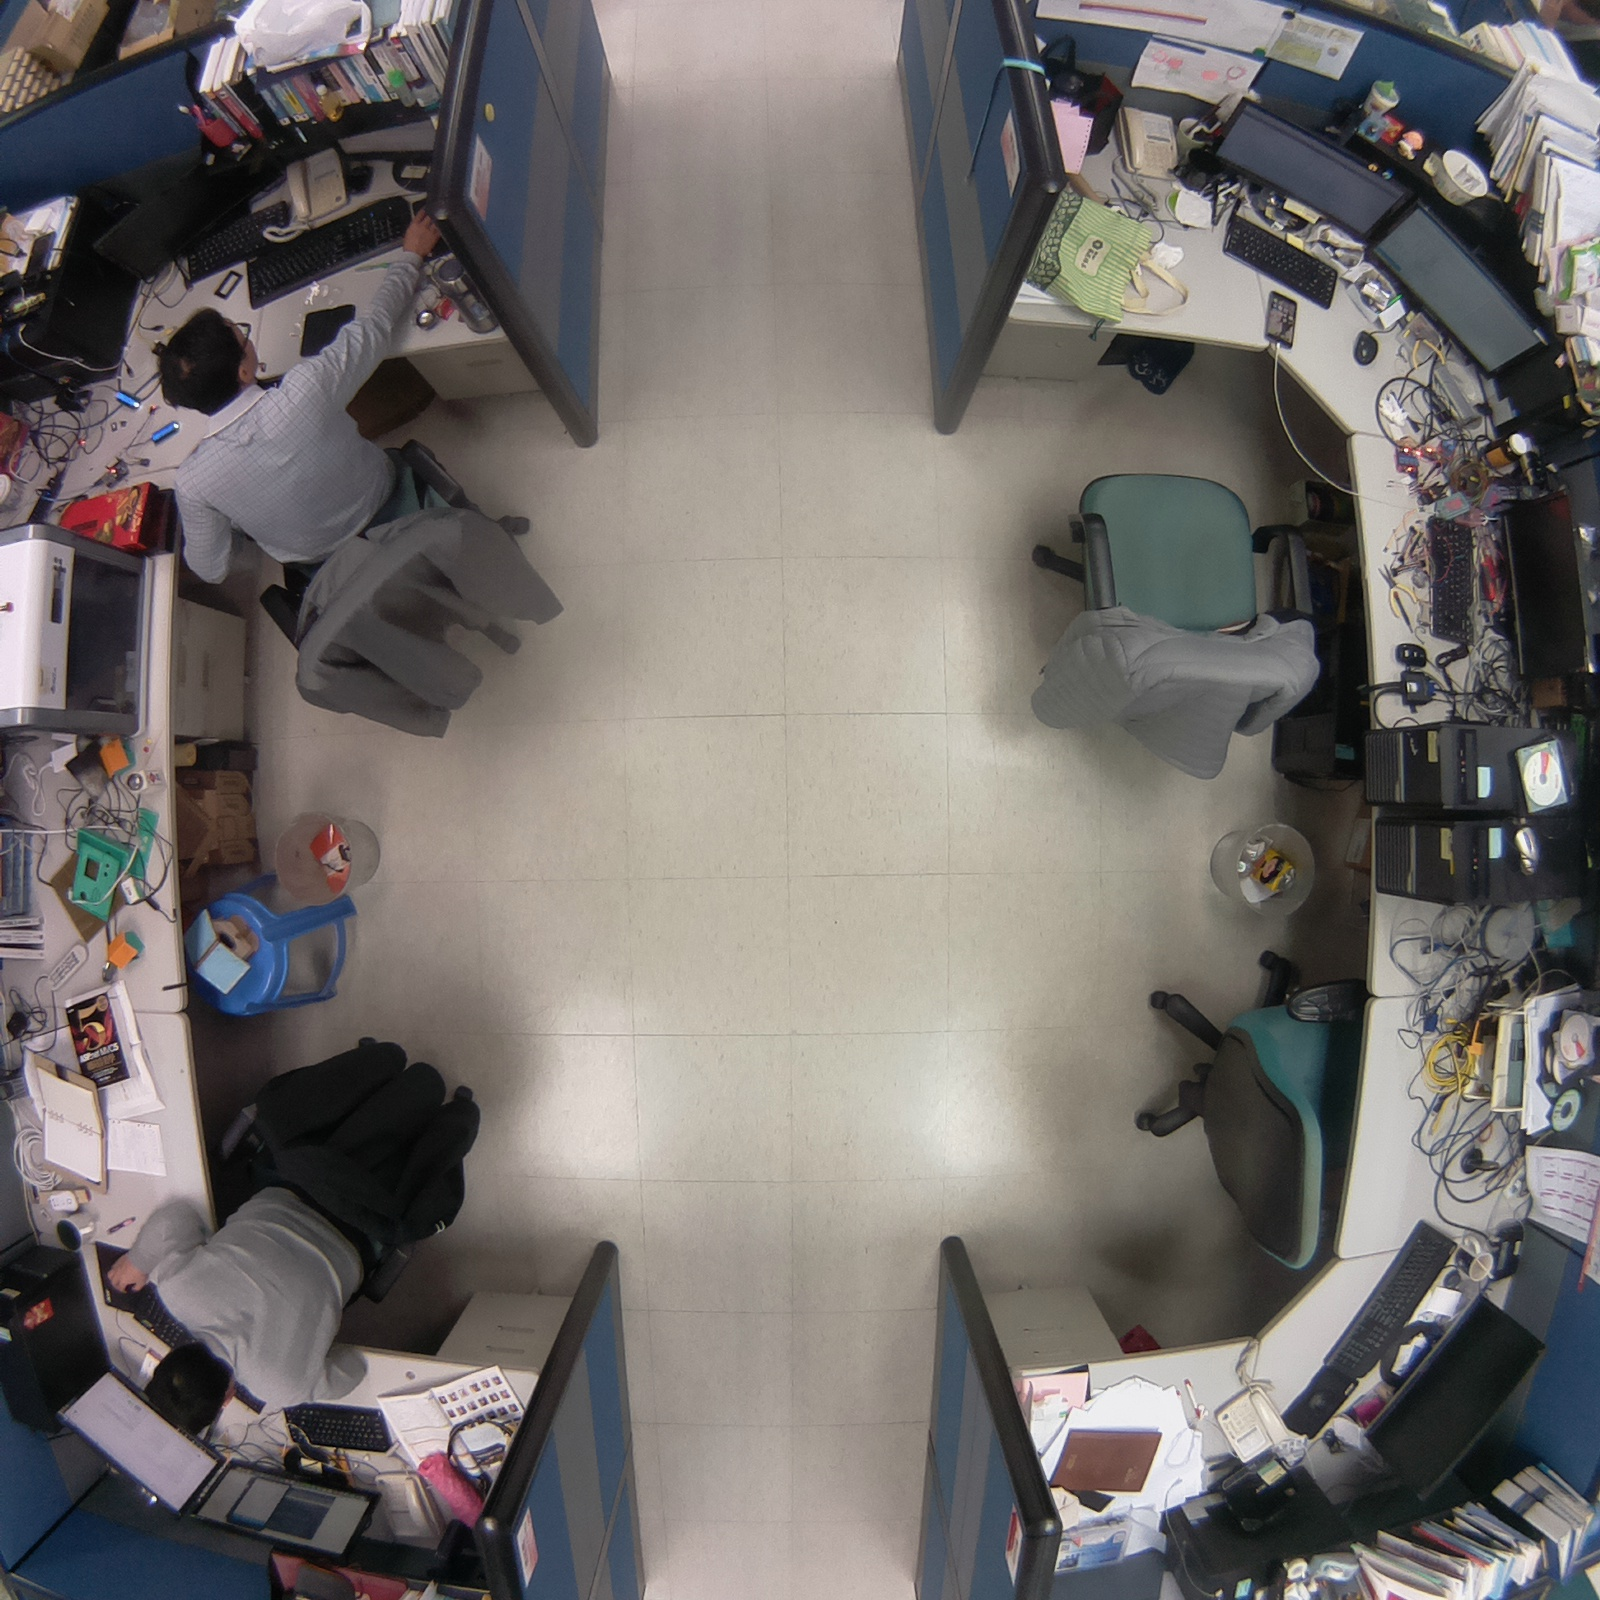chair: (1001, 438, 1332, 799), (1108, 938, 1382, 1286)
sitting: (141, 182, 583, 760), (86, 1015, 501, 1459)
